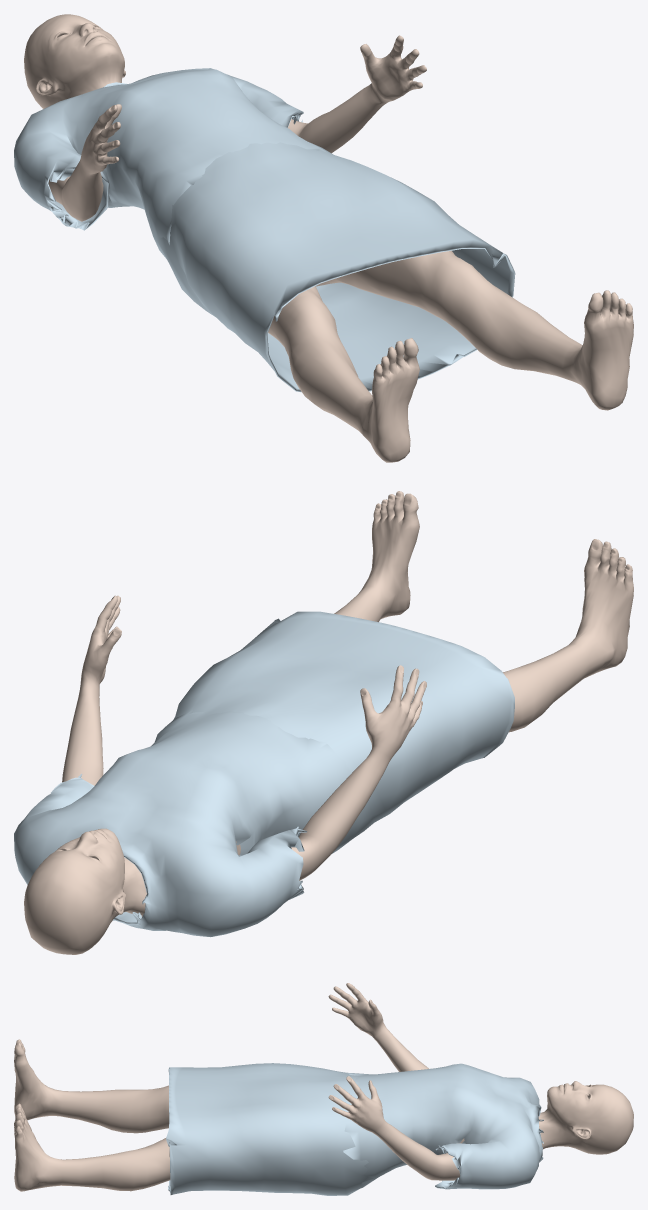
Rendered from patient.glb.
The picture shows the model from 3 angles, top to bottom: view 1: azimuth 30°, elevation 25°; view 2: azimuth 150°, elevation 25°; view 3: azimuth 270°, elevation 25°; orthographic projection. The views are drawn at different scales.
Parts seen in each view (by area): view 1: supine_patient; view 2: supine_patient; view 3: supine_patient.
Boxes of the visible parts, box(x1,y1,x2,y2) form: supine_patient: box(14, 14, 633, 462); supine_patient: box(14, 491, 633, 954); supine_patient: box(14, 983, 633, 1195).
Size of the model in its own units: 0.6639 by 0.4478 by 1.67.
